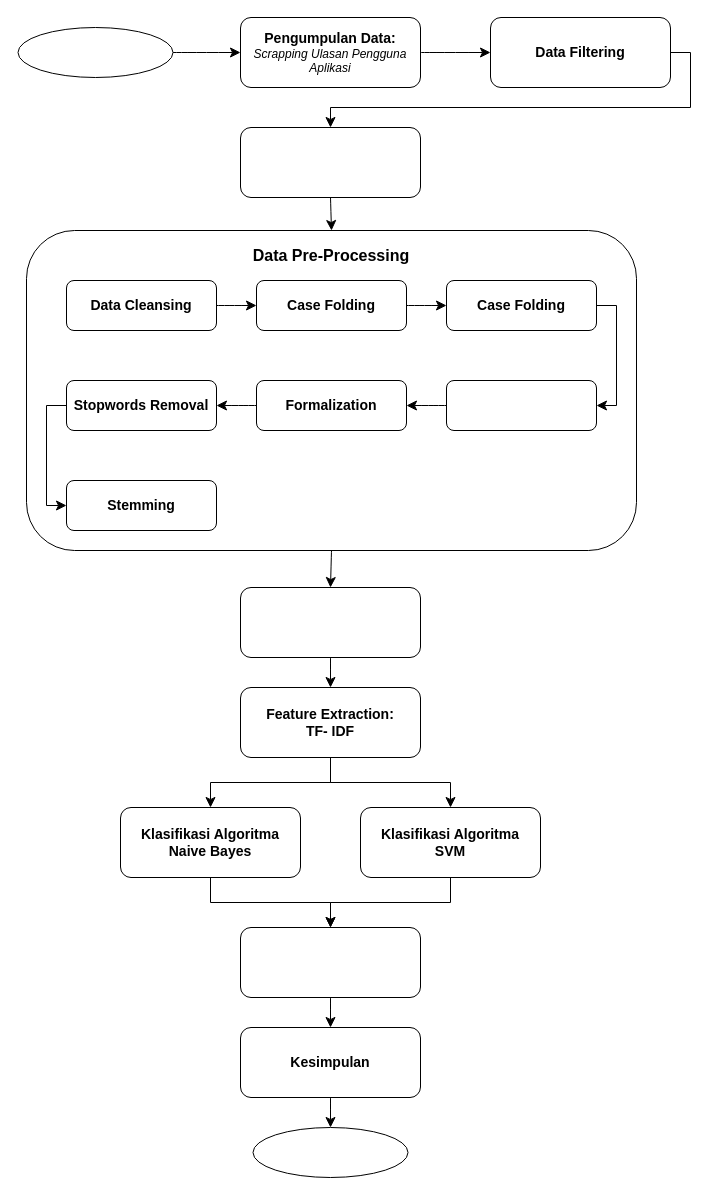
The diagram is 718 pixels wide and 1195 high, and some of its shapes have lost their labels. The shapes that lost their labels are listed below. From the top down, each one's box as (x1, y1, x2, y2) in pixels, then its label:
(17, 26, 173, 78): Start
(240, 126, 420, 198): Data Labelling
(446, 380, 596, 430): Tokenizing
(240, 586, 420, 658): Splitting Data
(240, 926, 420, 998): Evaluasi
(252, 1126, 408, 1178): End
